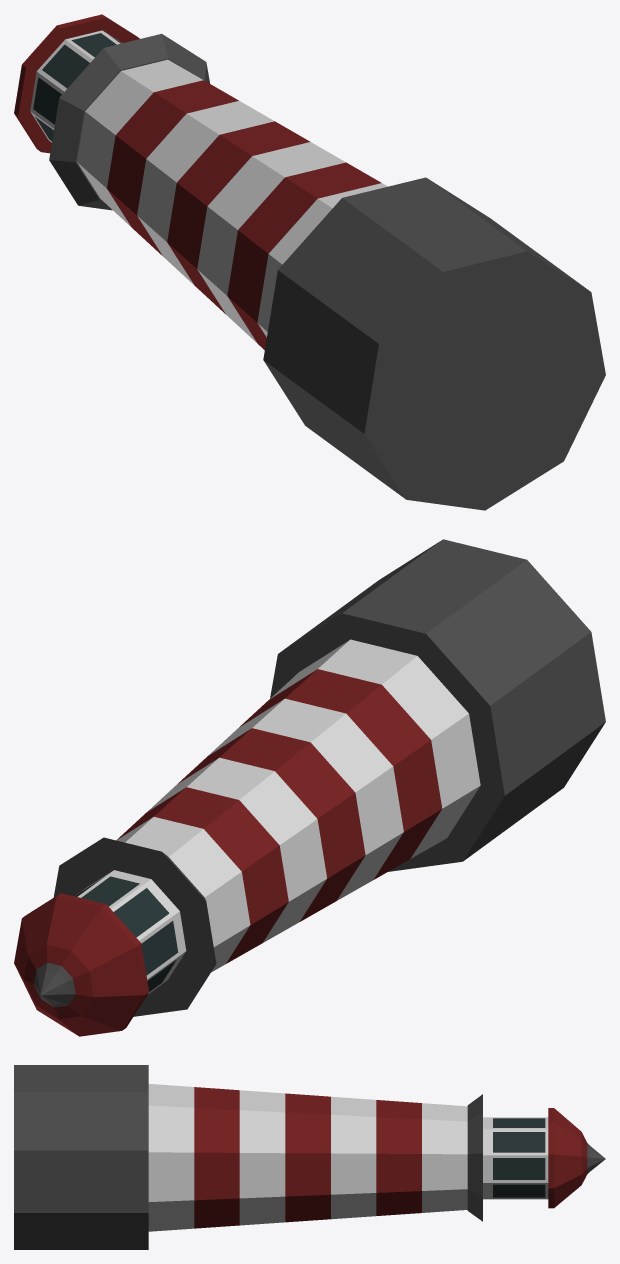
Rendered from Lighthouse.fbx.
3 views of the same model, one above another, from view 1: azimuth 30°, elevation 25°; view 2: azimuth 150°, elevation 25°; view 3: azimuth 270°, elevation 25° (orthographic). The views are drawn at different scales.
Parts seen in each view (by area): view 1: Lighthouse; view 2: Lighthouse; view 3: Lighthouse.
Part boxes in pixels (box(x1,y1,x2,y2)): Lighthouse: box(14, 14, 605, 510); Lighthouse: box(14, 539, 605, 1036); Lighthouse: box(14, 1065, 605, 1249).
Size of the model in its own units: 1379 by 1358 by 4396.
